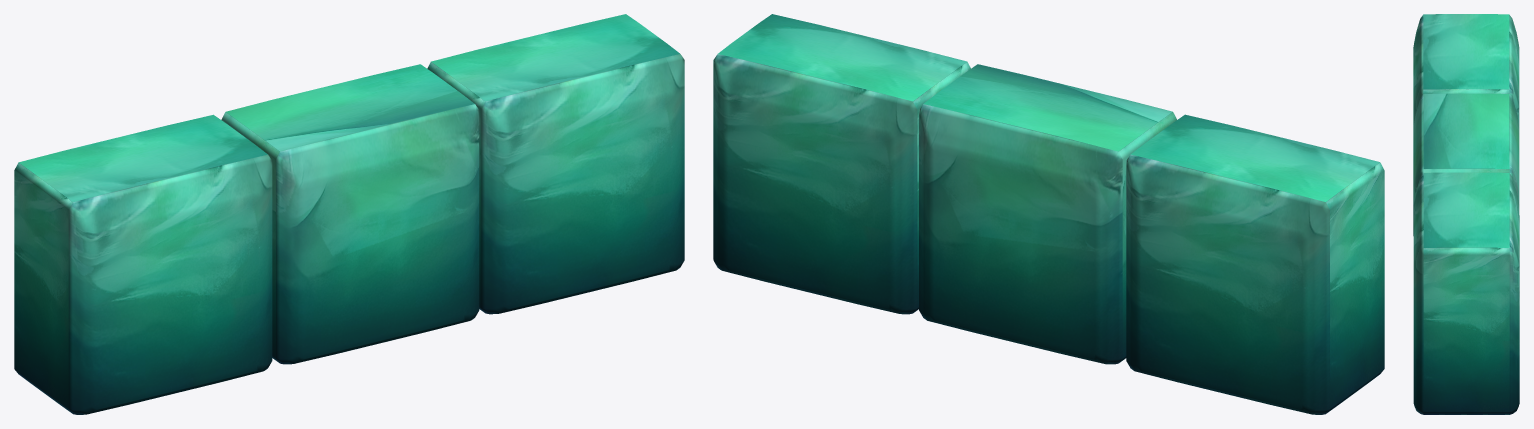
File: Wall.fbx
3 views of the same model, side by side, from view 1: azimuth 30°, elevation 25°; view 2: azimuth 150°, elevation 25°; view 3: azimuth 270°, elevation 25° (orthographic). The views are drawn at different scales.
Parts seen in each view (by area): view 1: Cube.001_0; view 2: Cube.001_0; view 3: Cube.001_0.
Part boxes in pixels (x1,y1,x2,y2): Cube.001_0: [14, 14, 684, 414]; Cube.001_0: [713, 14, 1384, 414]; Cube.001_0: [1413, 14, 1519, 414].
Bounding box in the file's own units: 916 × 303 × 173.
Materials: 1 (1 with a texture image).
